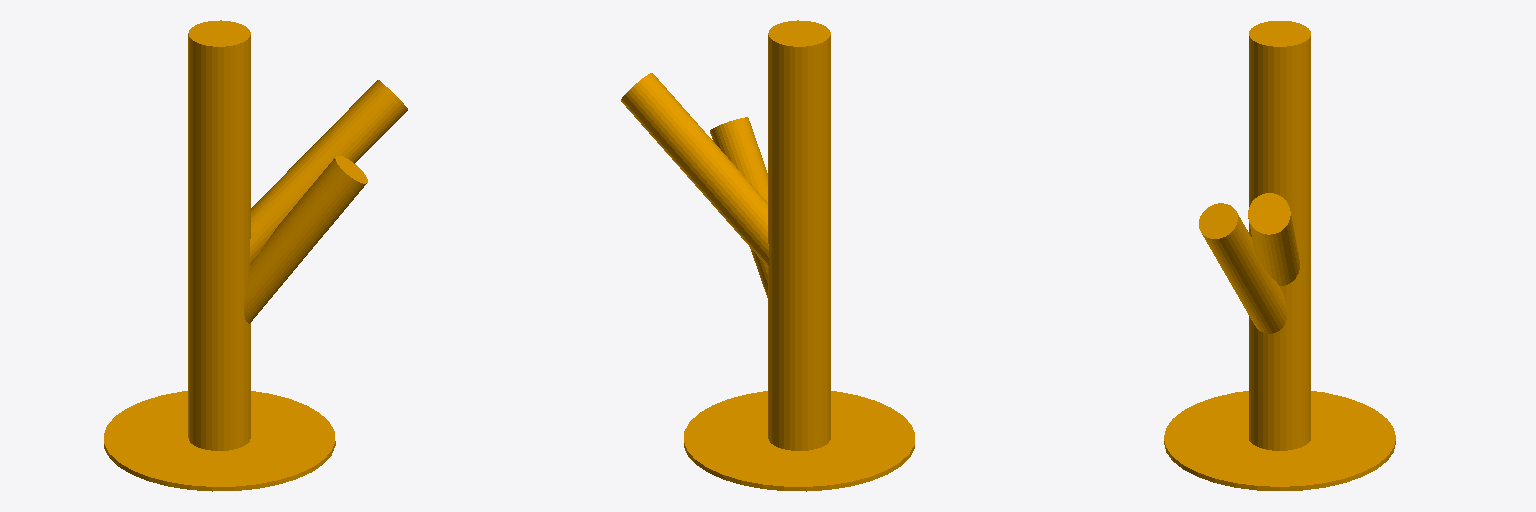
URDF robot description (syn_rack_med_113):
<?xml version="1.0" ?>
<robot name="syn_rack_med_113">
    <link concave="yes" name="base_link">
        <inertial>
            <origin rpy="0 0 0" xyz="0 0 0"/>
            <mass value="0.0"/>
            <inertia ixx="1e-08" ixy="0" ixz="0" iyy="1e-08" iyz="0" izz="1e-08"/>
        </inertial>
        <visual>
            <origin xyz="0 0 0" rpy="0 0 0" />
            <geometry>
                <mesh filename="syn_rack_med_113.obj" scale="1.000000 1.000000 1.000000"/>
            </geometry>
        </visual>

        <collision concave="yes">
            <origin xyz="0 0 0" rpy="0 0 0"/>
            <geometry>
                <mesh filename="syn_rack_med_113.obj" scale="1.000000 1.000000 1.000000"/>
            </geometry>
        </collision>
    </link>
</robot>
    

--- Render facts (derived) ---
Views: 3 orthographic renders of the robot side by side, from view 1: azimuth 30°, elevation 25°; view 2: azimuth 150°, elevation 25°; view 3: azimuth 270°, elevation 25°.
Model syn_rack_med_113 with 1 links and 0 joints (none), rooted at base_link, posed all joints at 0.
Visible links, largest first — view 1: base_link; view 2: base_link; view 3: base_link.
Boxes of the visible links, x1=… form: base_link: x1=104, y1=20, x2=407, y2=491; base_link: x1=621, y1=20, x2=914, y2=491; base_link: x1=1164, y1=21, x2=1395, y2=490.
Bounding box of the posed robot: 0.7175 × 0.515 × 1 m (x, y, z).
Meshes: 1 distinct files referenced, 1 mesh visuals loaded (1 OBJ).
